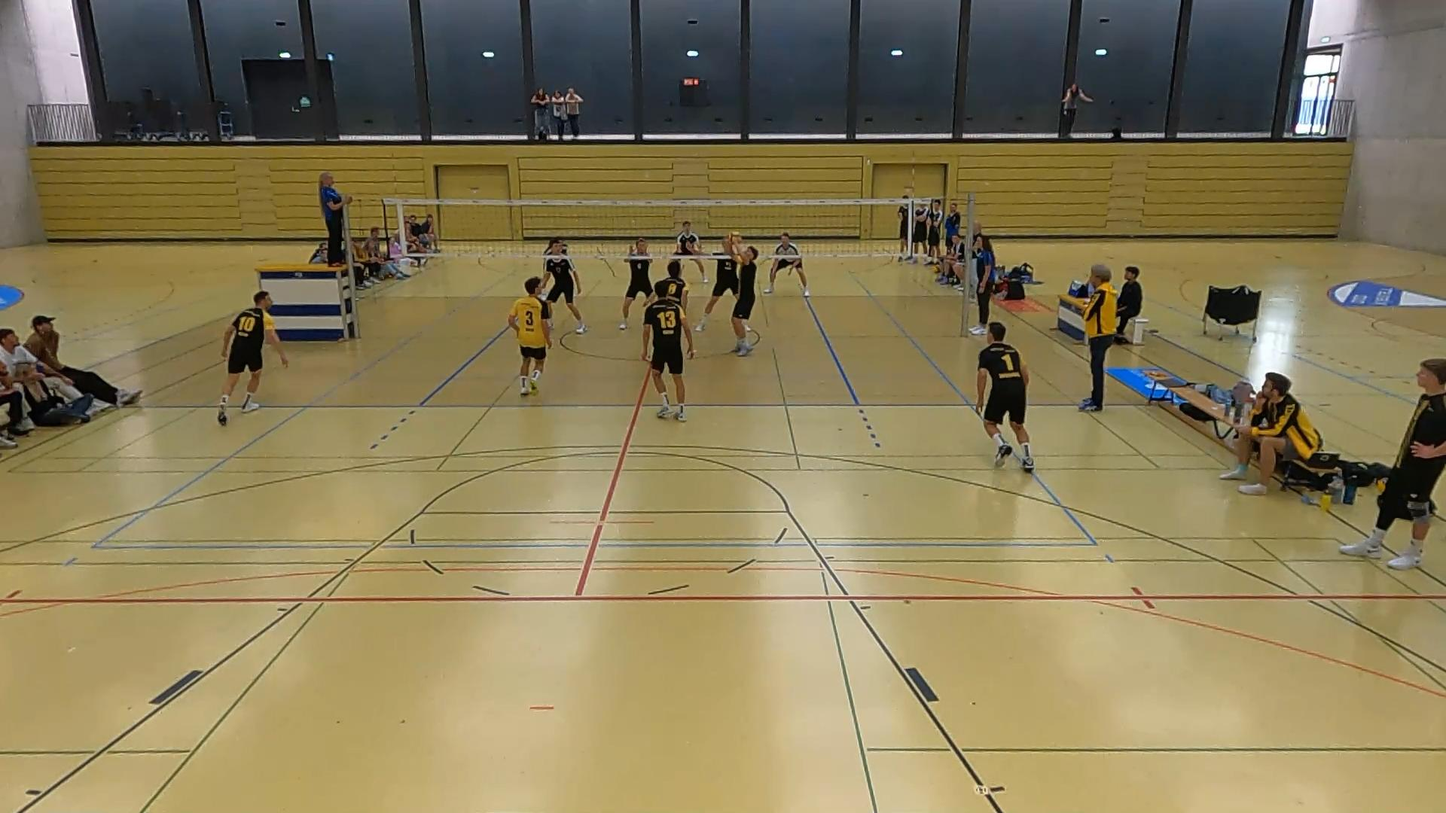alzata: (713, 232, 779, 361)
